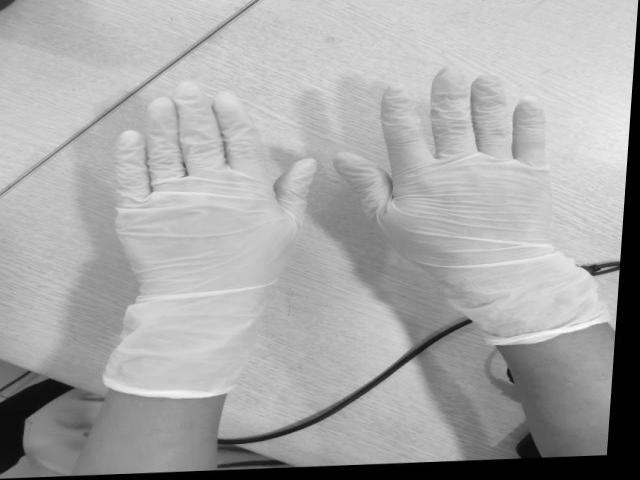gloved: (115, 84, 318, 294), (336, 74, 558, 252)
